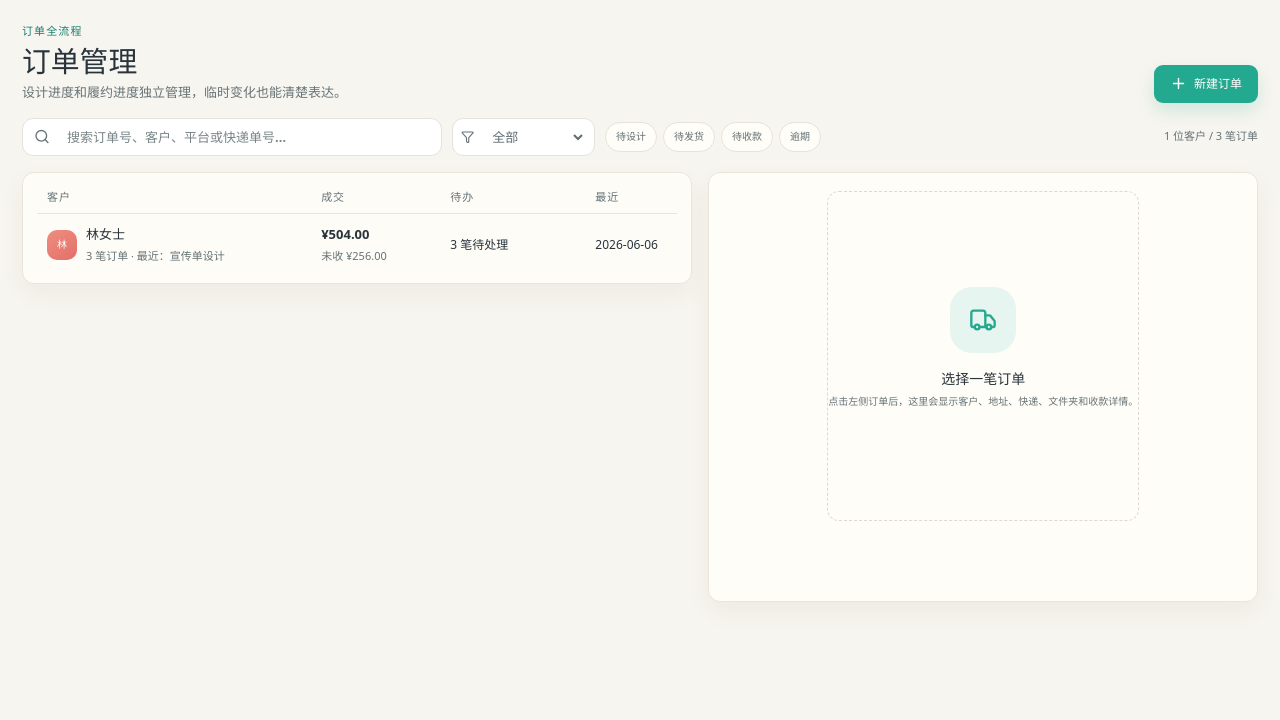
it: OrdersPage › filters orders with one-click shortcut buttons
The width and height of the screenshot is (1280, 720).
Step 1. Click the button "林 林女士 3 笔订单 · 最近：宣传单设计 ¥504.00 未收 ¥256.00 3 笔待处理 2026-06-06" → {"x": 357, "y": 244}, box [37, 214, 677, 275]
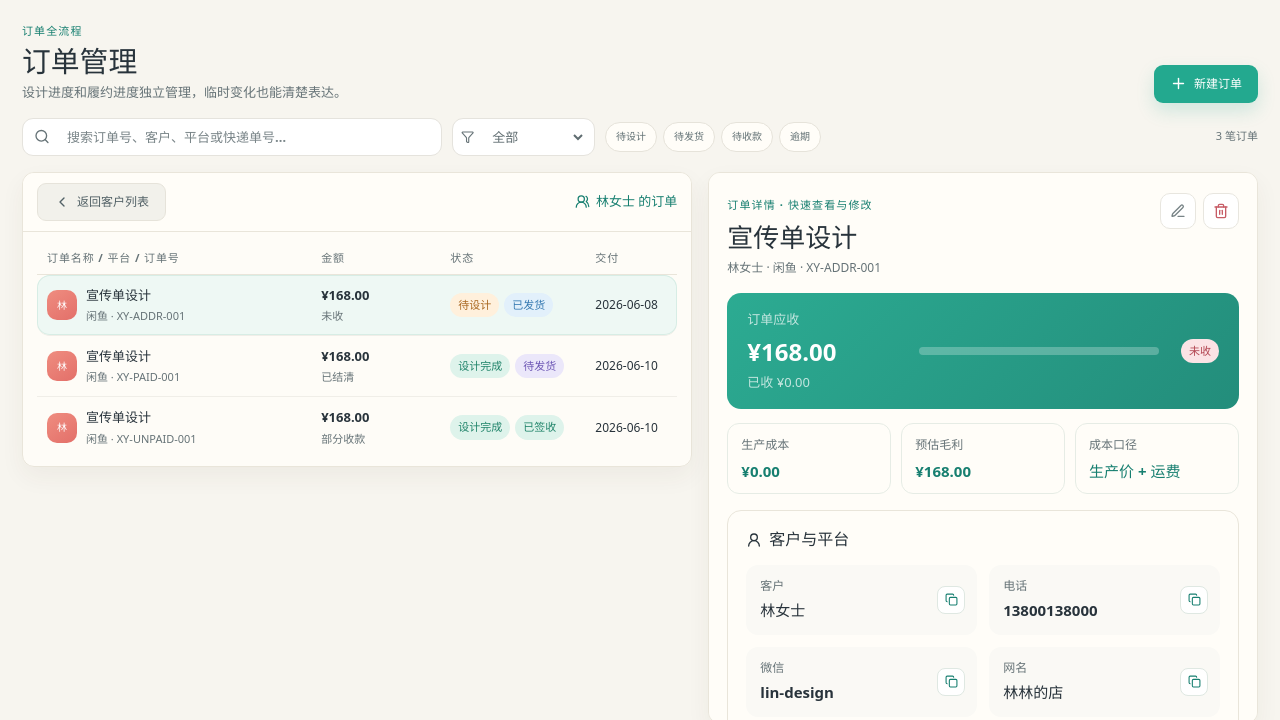
Step 2. Click the button "待收款" → {"x": 747, "y": 136}, box [721, 122, 773, 152]
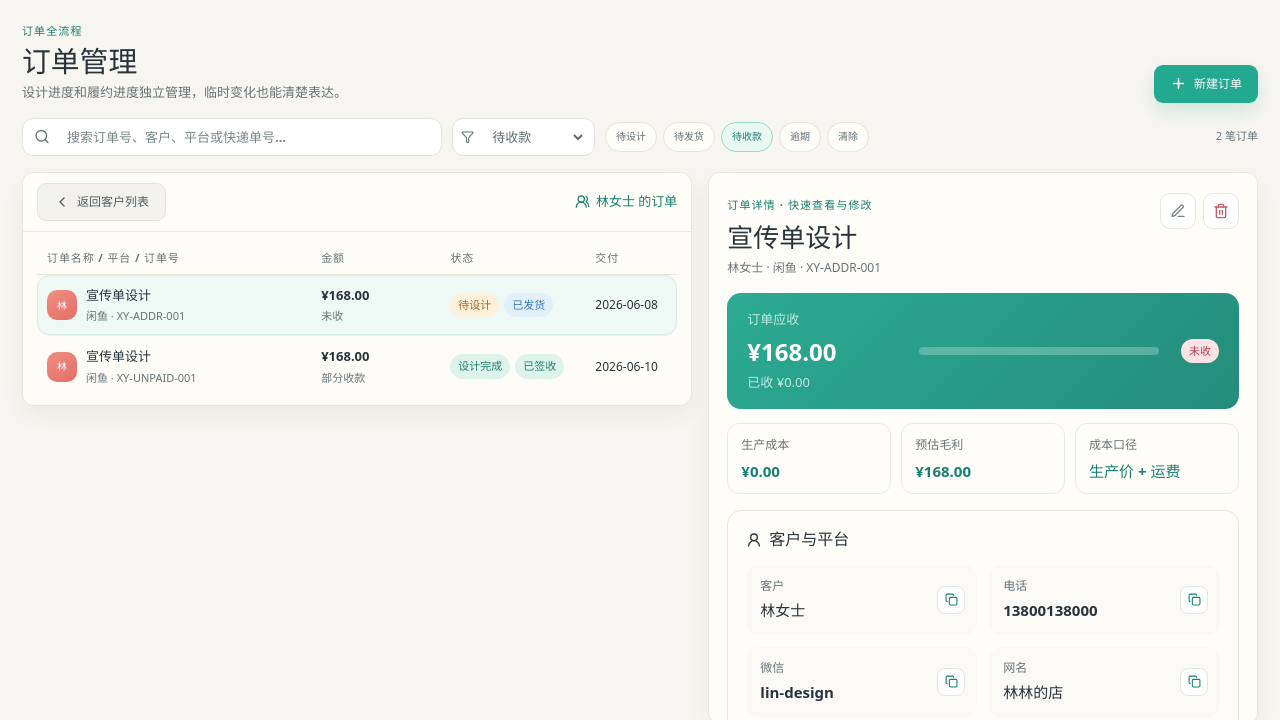
Expected: the button "林 宣传单设计 闲鱼 · XY-ADDR-001 ¥168.00 未收 待设计 已发货 2026-06-08" is shown, [37, 275, 677, 336]
Expected: the button "林 宣传单设计 闲鱼 · XY-UNPAID-001 ¥168.00 部分收款 设计完成 已签收 2026-06-10" is shown, [37, 336, 677, 397]
Expected: the button "XY-PAID-001" is gone
Step 3. Click the button "待发货" → {"x": 689, "y": 136}, box [663, 122, 715, 152]
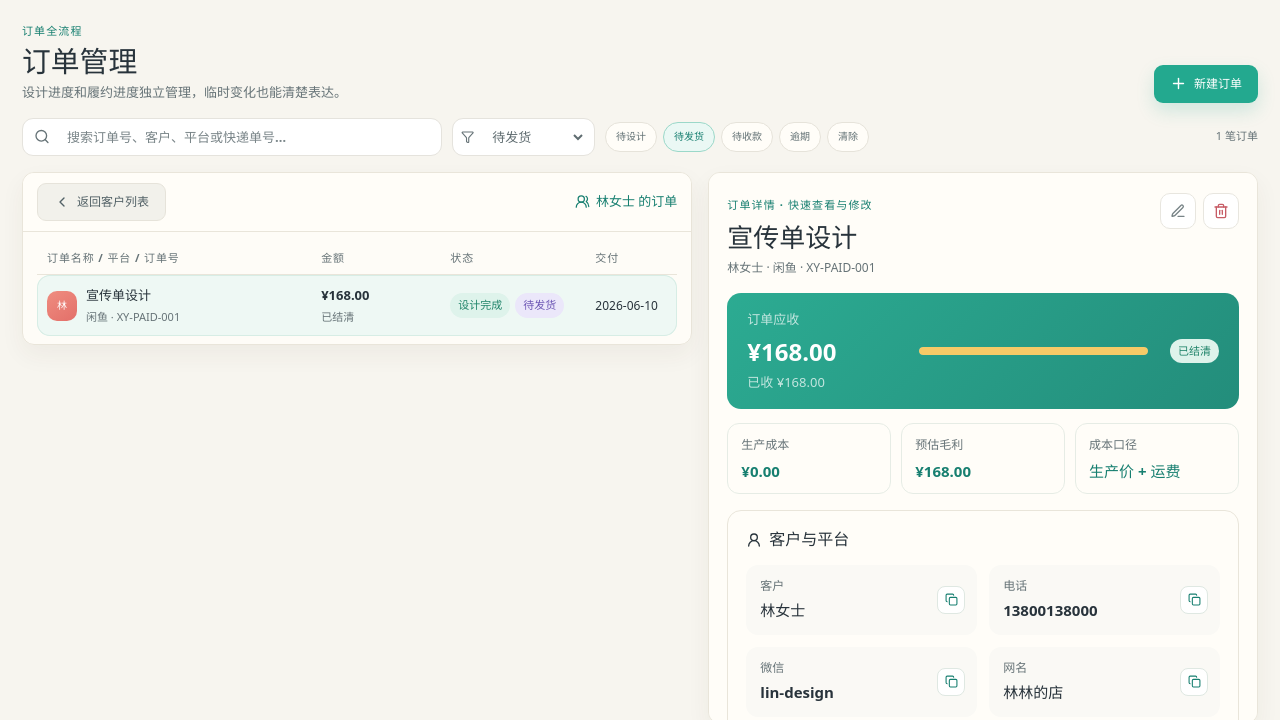
Expected: the button "林 宣传单设计 闲鱼 · XY-PAID-001 ¥168.00 已结清 设计完成 待发货 2026-06-10" is shown, [37, 275, 677, 336]
Expected: the button "XY-UNPAID-001" is gone
